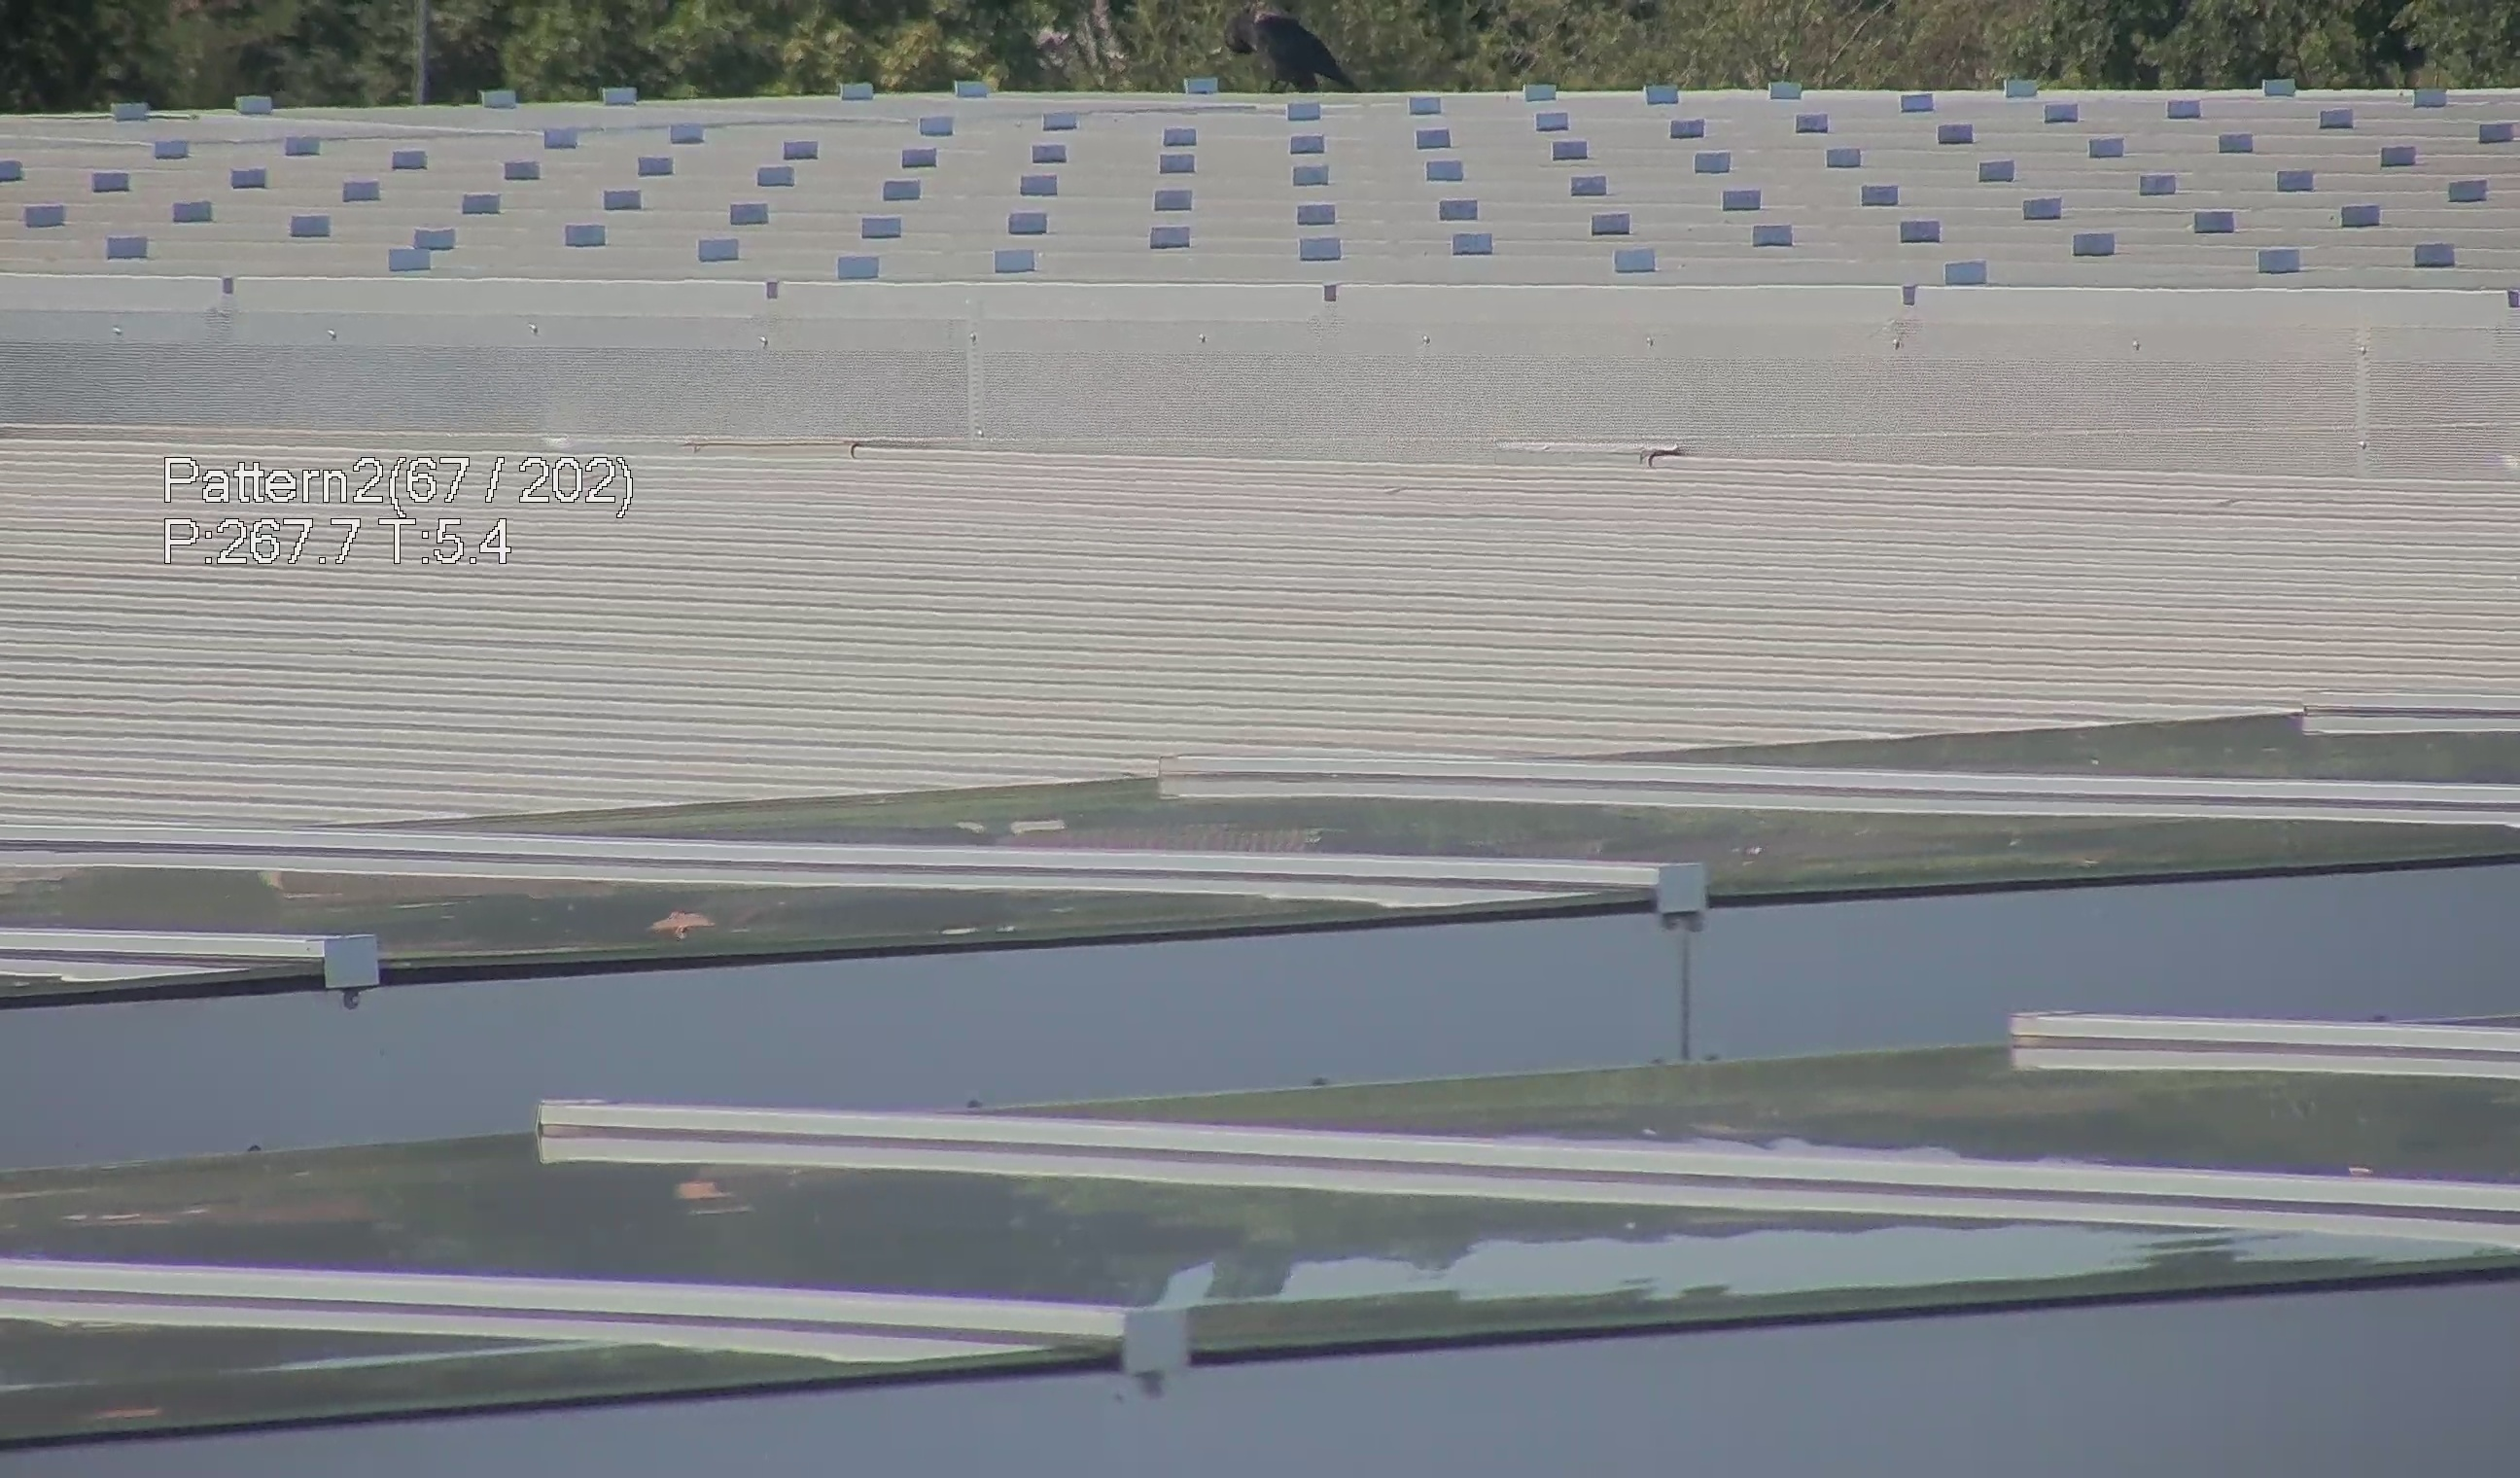Other: (1238, 0, 1366, 95)
